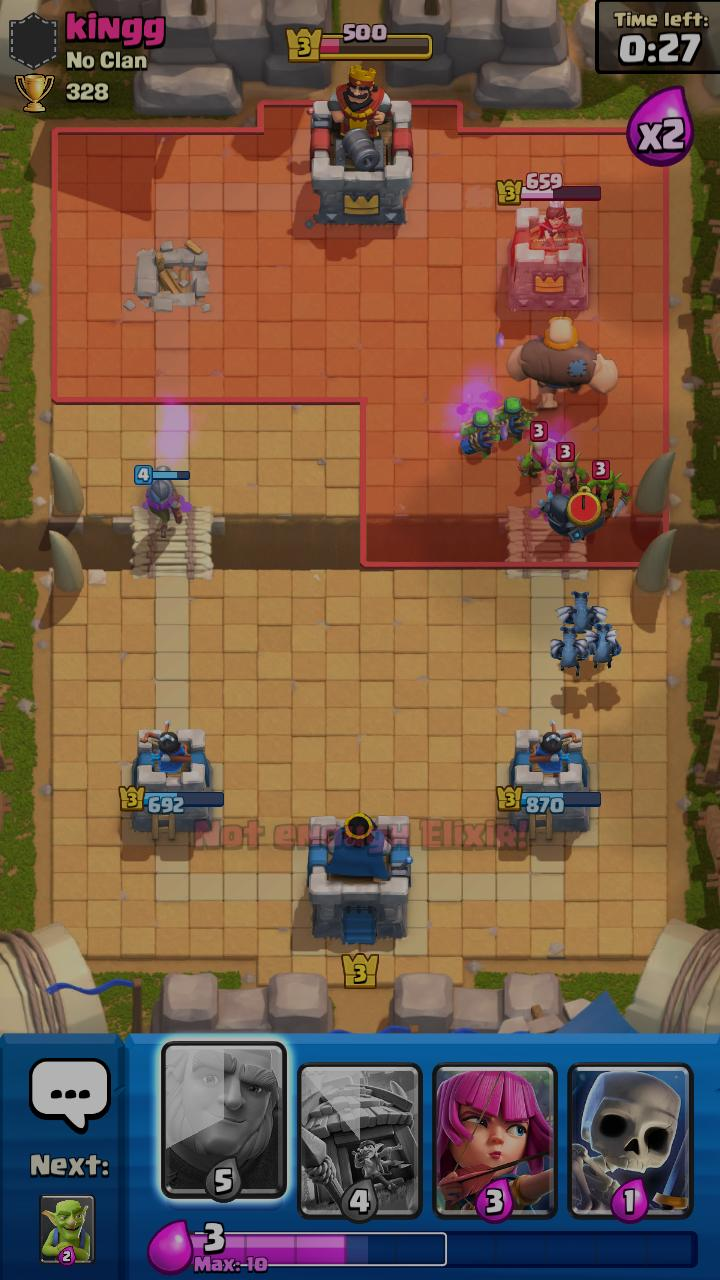ally: (506, 317, 619, 410), (134, 465, 190, 538), (540, 491, 605, 543), (554, 591, 609, 634), (492, 396, 538, 444), (550, 625, 590, 677), (459, 410, 501, 458), (584, 622, 622, 669)
enemy: (587, 460, 632, 519), (546, 442, 590, 495), (517, 421, 557, 479)
